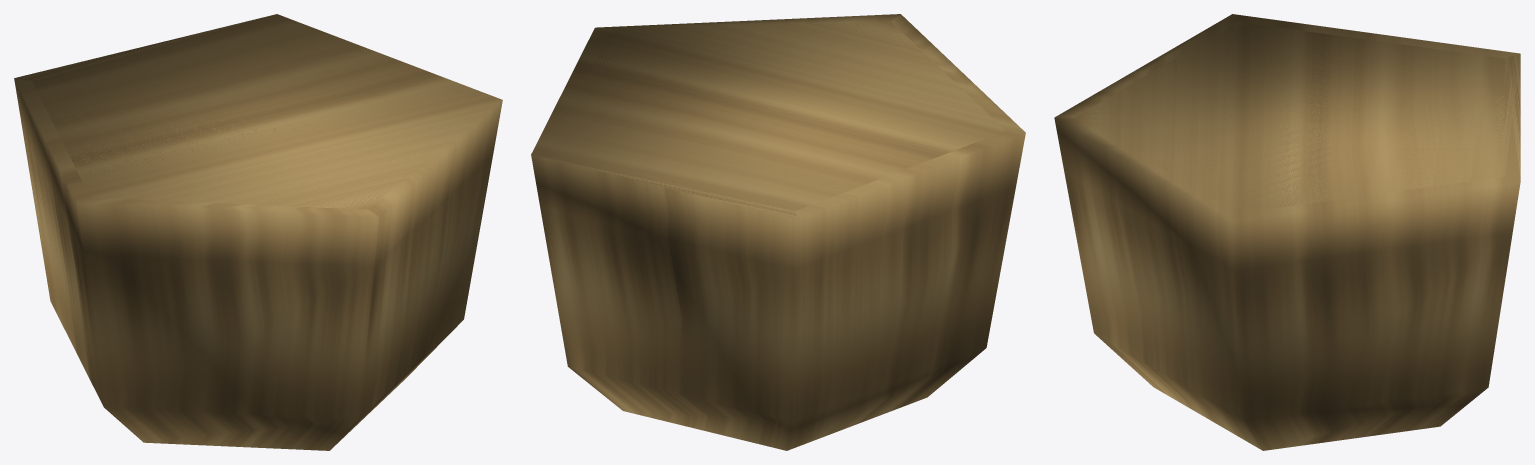
File: Basket_1_LOD2.gltf
3 renders of one model, left to right at view 1: azimuth 30°, elevation 25°; view 2: azimuth 150°, elevation 25°; view 3: azimuth 270°, elevation 25°, orthographic.
Visible parts, largest first — view 1: Basket_1_LOD2; view 2: Basket_1_LOD2; view 3: Basket_1_LOD2.
Boxes of the visible parts, bbox=[...] form: Basket_1_LOD2: bbox=[14, 14, 502, 450]; Basket_1_LOD2: bbox=[531, 14, 1025, 450]; Basket_1_LOD2: bbox=[1054, 14, 1520, 450].
Size of the model in its own units: 0.4945 by 0.3 by 0.4703.
Materials: 1 (1 with a texture image).
